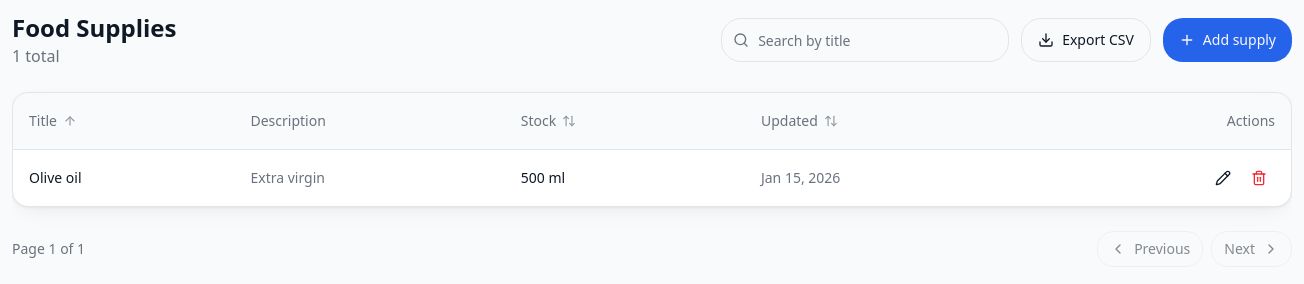
AdminFoodSuppliesPage › switches sort column and resets to ascending
Check: the text "Olive oil" is shown, box [29,168,82,188]
Click the button with aria-label "Sort by title ascending" at (53, 121), box [21,105,85,137]
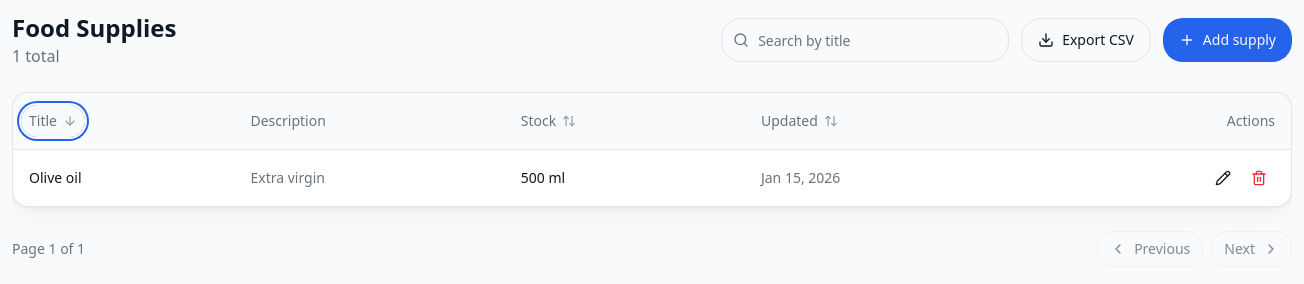
Click the button with aria-label "Sort by stock" at (548, 121), box [513,105,584,137]
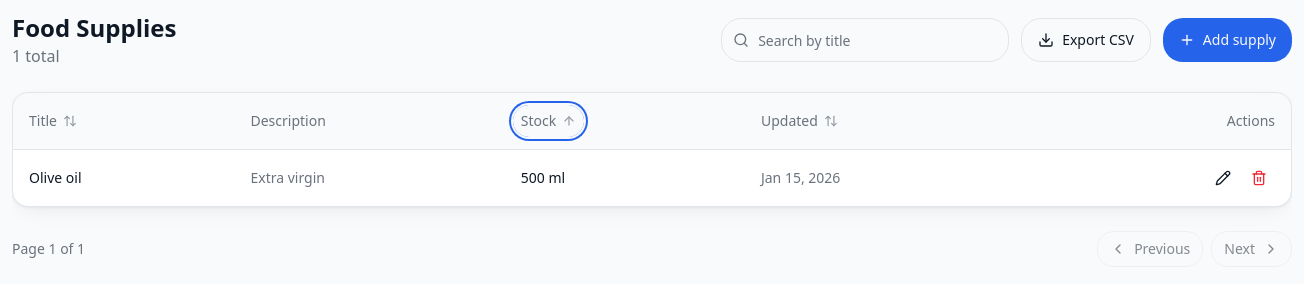
Check: the button with aria-label "Sort by stock ascending" is shown, box [513,105,584,137]
